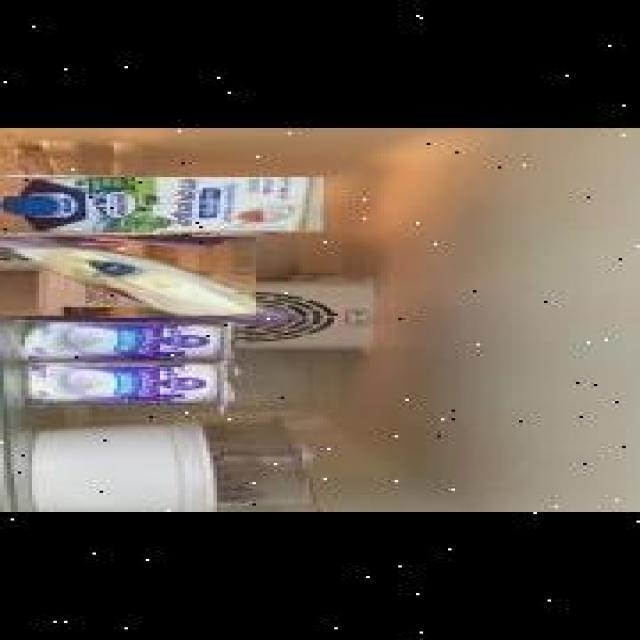grated_cheese: (0, 237, 252, 316)
heavy_cream: (0, 177, 320, 233)
yogurt: (21, 364, 231, 406), (8, 322, 230, 360)
